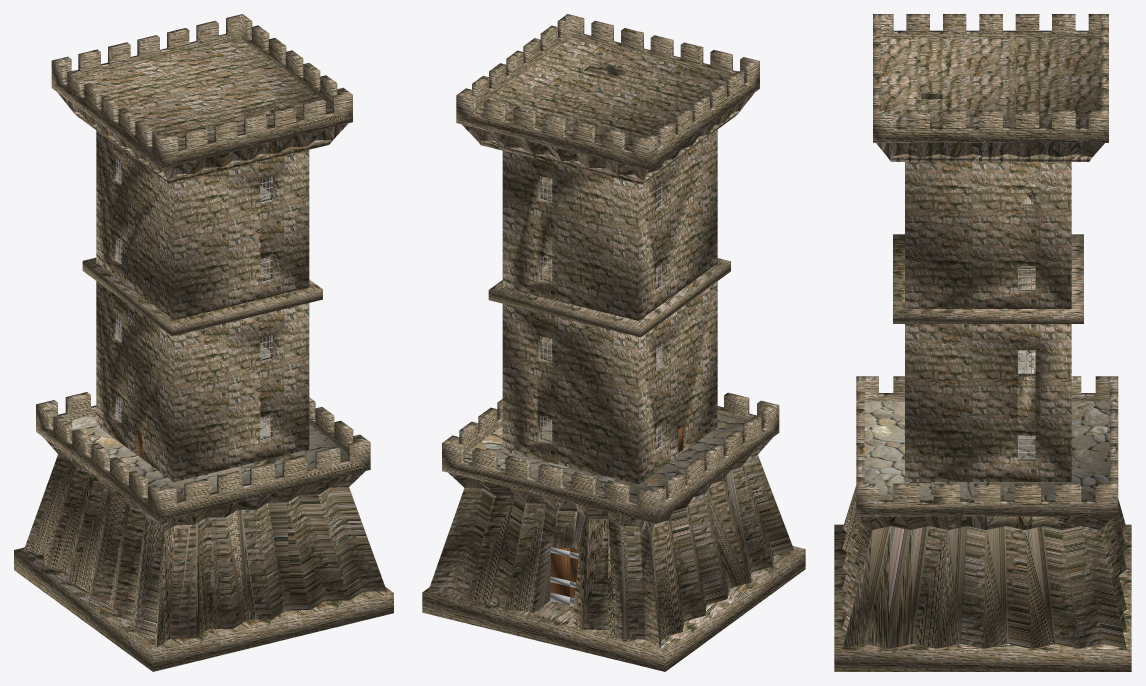
The model's file is Tower.obj.
The picture shows the model from 3 angles, left to right: view 1: azimuth 30°, elevation 25°; view 2: azimuth 150°, elevation 25°; view 3: azimuth 270°, elevation 25°; orthographic projection. The views are drawn at different scales.
Visible parts, largest first — view 1: base, merli2, torre1, Torre2, merli1, piano, cornice; view 2: base, merli2, torre1, Torre2, merli1, piano, cornice, PortoneB; view 3: base, merli2, torre1, Torre2, merli1, piano, cornice.
Boxes of the visible parts, <box> form: base: <box>24,437,386,646</box>; merli2: <box>51,14,352,183</box>; torre1: <box>96,281,309,482</box>; Torre2: <box>96,130,309,320</box>; merli1: <box>36,392,370,521</box>; piano: <box>14,547,393,671</box>; cornice: <box>82,257,322,336</box>; base: <box>428,438,793,647</box>; merli2: <box>456,14,759,184</box>; torre1: <box>502,281,717,484</box>; Torre2: <box>502,130,717,320</box>; merli1: <box>442,392,779,523</box>; piano: <box>422,546,805,671</box>; cornice: <box>488,258,730,337</box>; PortoneB: <box>551,547,570,596</box>; base: <box>842,482,1126,648</box>; merli2: <box>873,14,1108,161</box>; torre1: <box>905,324,1071,481</box>; Torre2: <box>905,162,1071,308</box>; merli1: <box>856,376,1118,516</box>; piano: <box>834,524,1131,671</box>; cornice: <box>893,234,1083,323</box>.
Size of the model in its own units: 1.83 by 3.7 by 1.83.
